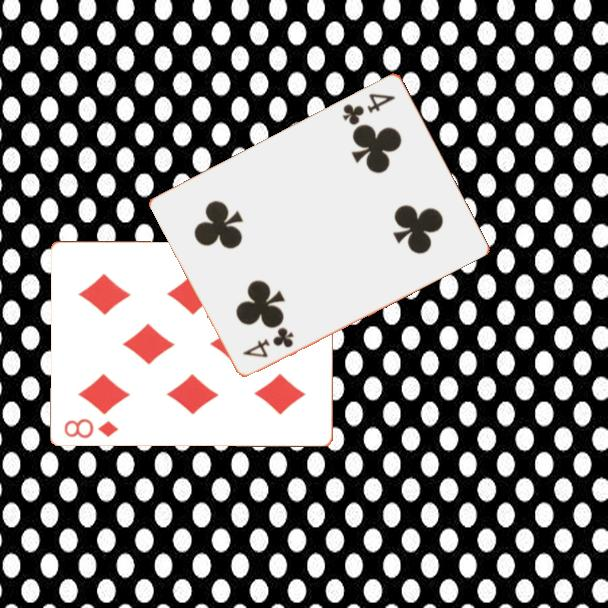c04: (338, 89, 399, 128), (239, 324, 297, 360)
d08: (61, 415, 122, 441)
